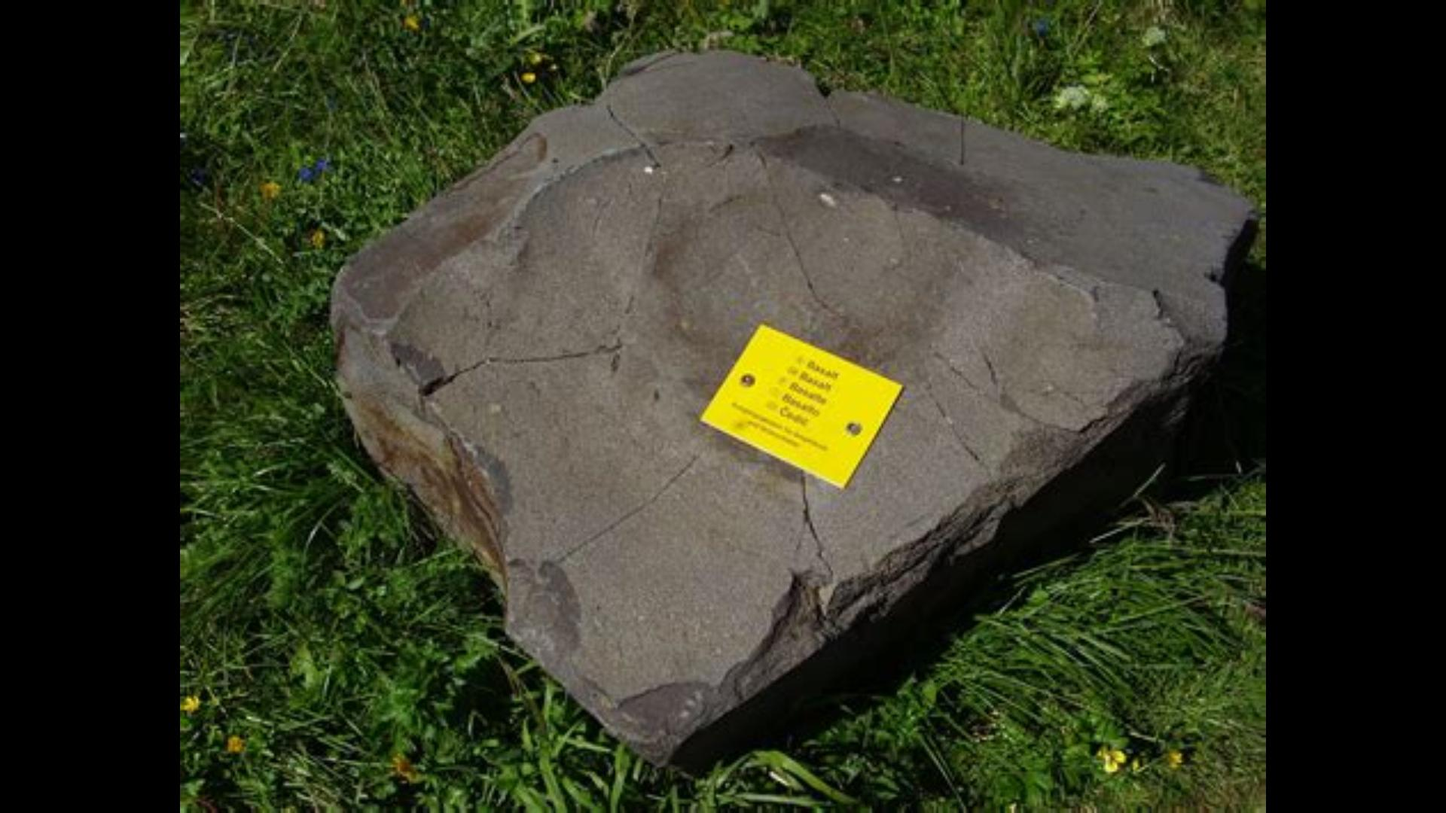rock: (334, 53, 1252, 763)
